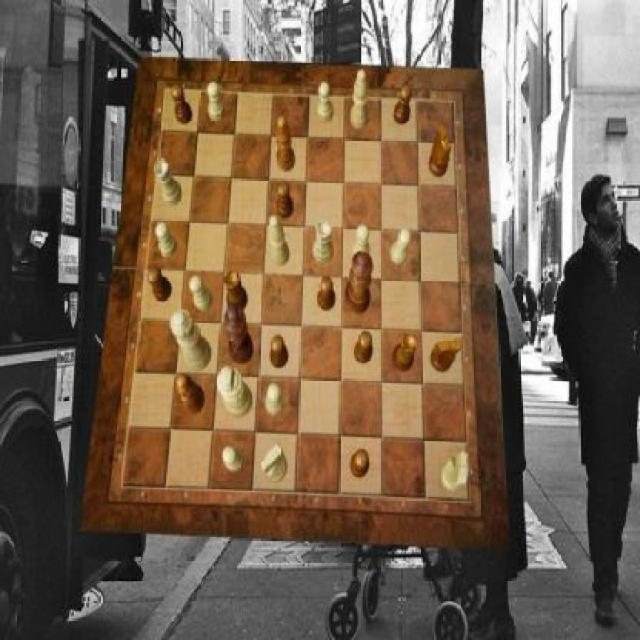bishop: (177, 374, 205, 414), (276, 115, 294, 173)
black-bishop: (224, 301, 254, 364)
black-king: (430, 126, 452, 179), (431, 338, 461, 372)
black-knight: (170, 84, 192, 124), (148, 268, 172, 302), (392, 84, 412, 124), (277, 182, 294, 219), (270, 336, 288, 370), (355, 330, 373, 364), (319, 275, 336, 310), (351, 451, 371, 478)
black-pawn: (346, 251, 374, 313)
black-queen: (224, 270, 248, 314), (392, 332, 418, 372)
black-rook: (268, 216, 290, 266), (351, 71, 368, 131)
white-bishop: (217, 366, 252, 419)
white-king: (440, 452, 468, 492), (260, 445, 287, 482)
white-knight: (191, 275, 214, 310), (156, 222, 177, 258), (391, 230, 411, 266), (208, 83, 225, 123), (352, 225, 370, 262), (318, 82, 334, 123), (221, 446, 244, 472), (266, 385, 284, 417)
white-pawn: (169, 309, 212, 372)
white-queen: (154, 159, 181, 206), (314, 220, 334, 264)
